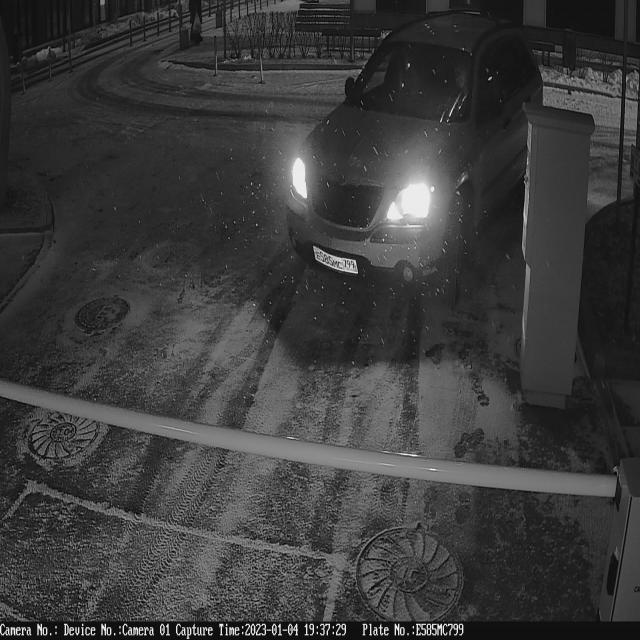car-plate-numbers: (312, 242, 361, 281)
